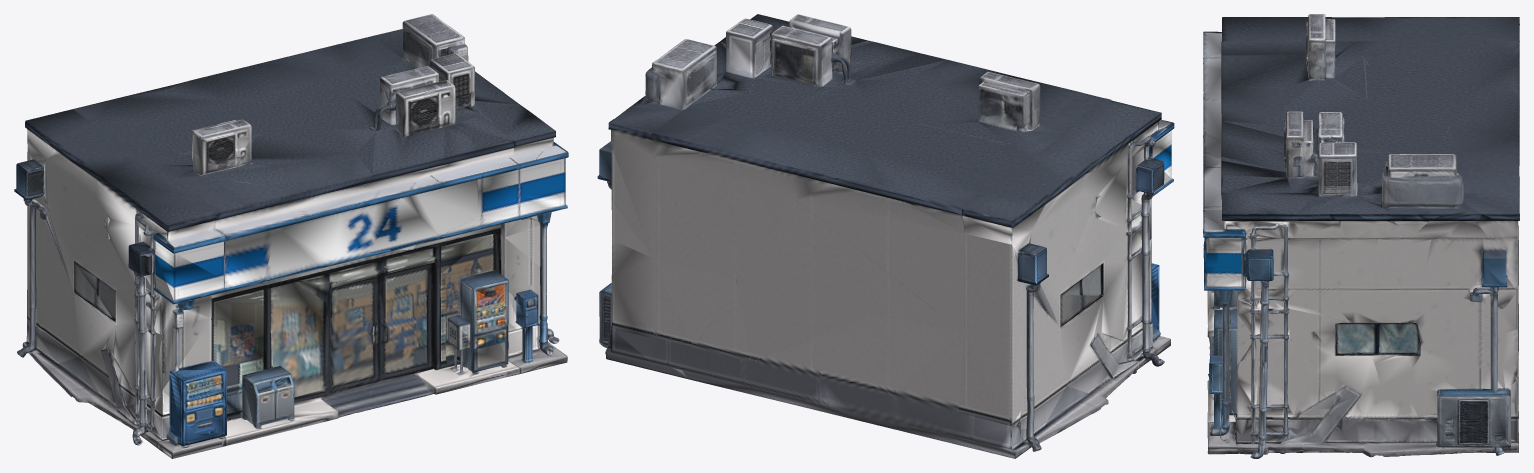
File: BLD_015_convenience_store_a.glb
3 renders of one model, left to right at view 1: azimuth 30°, elevation 25°; view 2: azimuth 150°, elevation 25°; view 3: azimuth 270°, elevation 25°, orthographic. The views are drawn at different scales.
Parts seen in each view (by area): view 1: Mesh_0.001; view 2: Mesh_0.001; view 3: Mesh_0.001.
Part boxes in pixels (x1,y1,x2,y2): Mesh_0.001: [14, 14, 568, 458]; Mesh_0.001: [597, 14, 1174, 458]; Mesh_0.001: [1203, 14, 1519, 458].
Size of the model in its own units: 7 by 4.2 by 4.3.
1 material, 1 textured.
